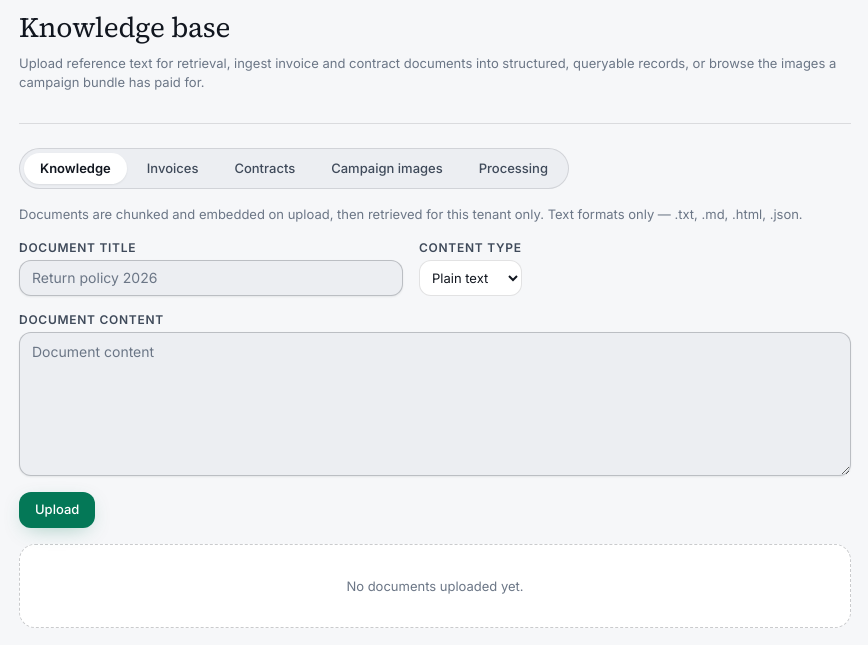
KnowledgePage tabs › switching to Processing mounts the queue dashboard
Click the tab "Processing" at coordinates (513, 169), box [463,154,564,184]
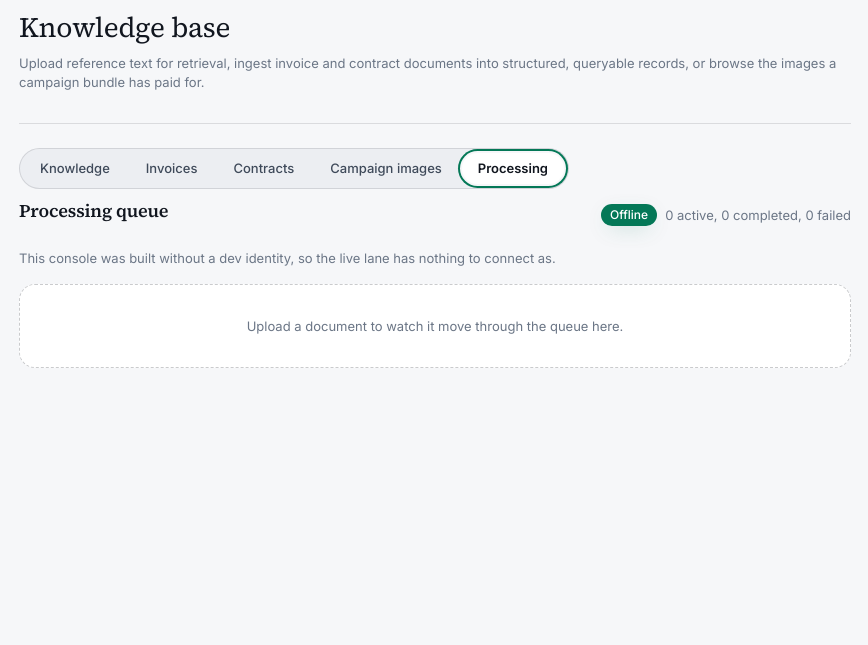
Now the heading "Processing queue" is shown, box [19,197,168,225]
